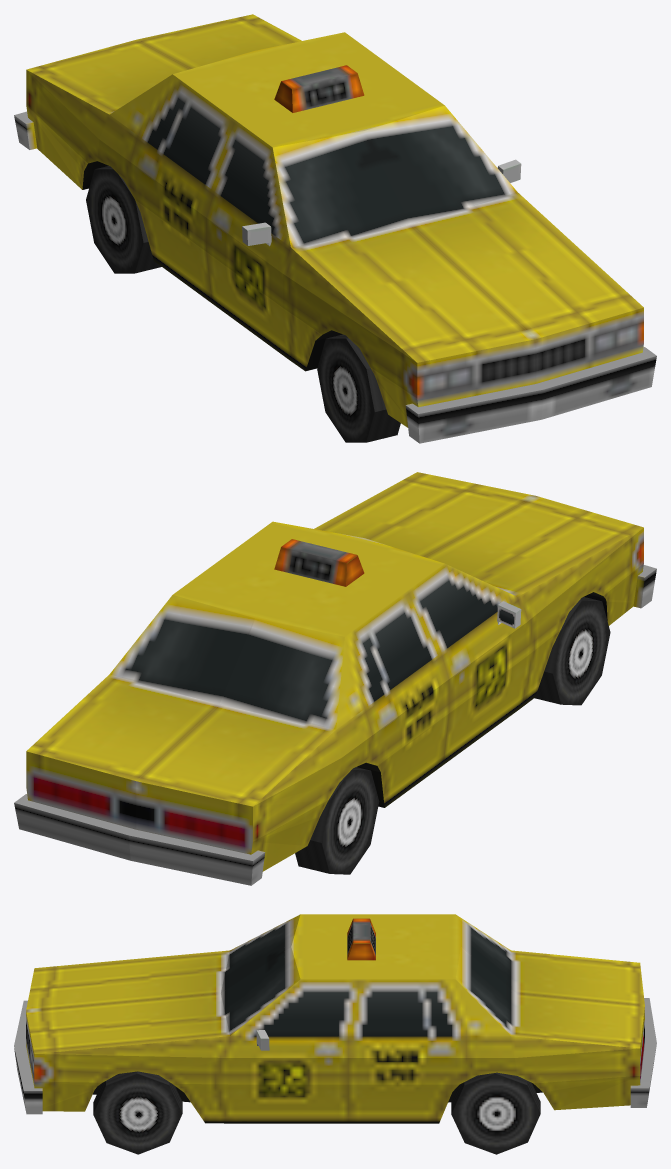
The model's file is Car5_Taxi.glb.
3 views of the same model, one above another, from view 1: azimuth 30°, elevation 25°; view 2: azimuth 150°, elevation 25°; view 3: azimuth 270°, elevation 25° (orthographic). The views are drawn at different scales.
Size of the model in its own units: 2.78 by 2.25 by 7.3.
Materials: 1 (1 with a texture image).
